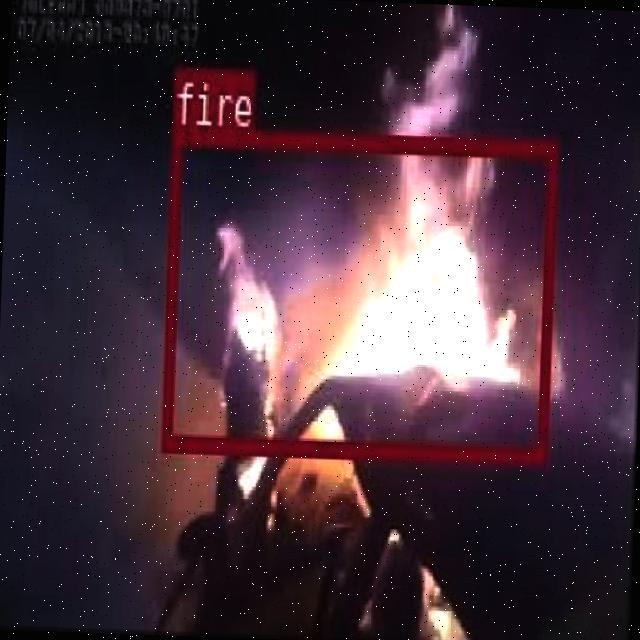fire: (160, 125, 554, 461)
